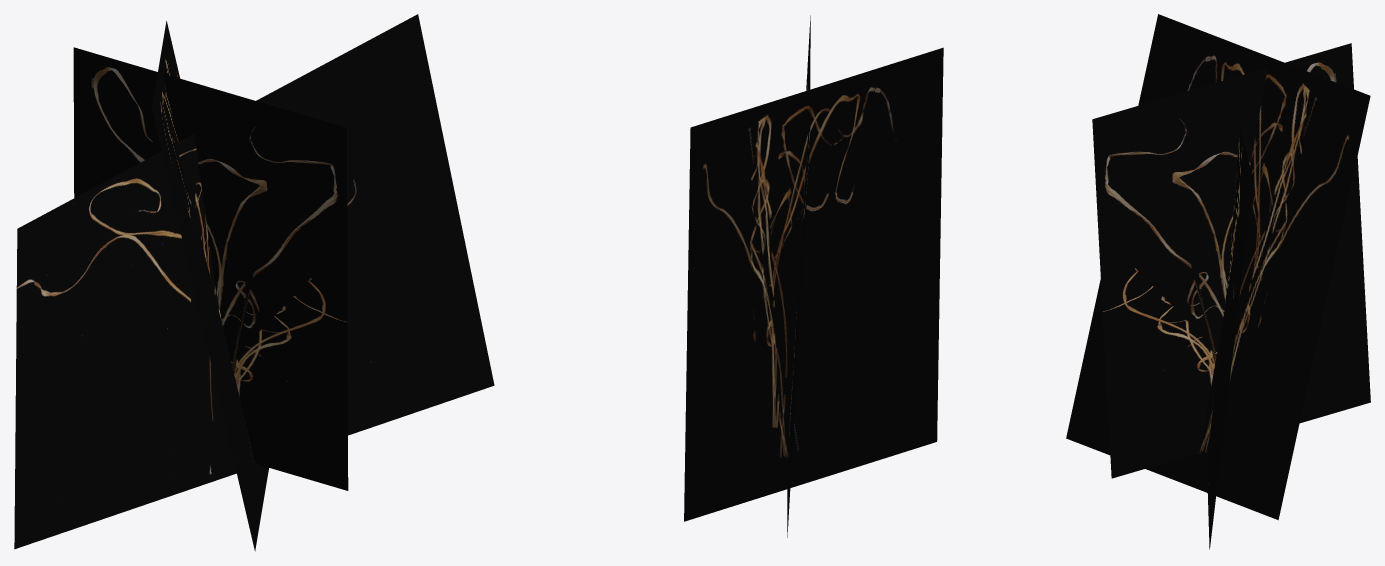
Rendered from dead_grass2.glb.
3 views of the same model, side by side, from view 1: azimuth 30°, elevation 25°; view 2: azimuth 150°, elevation 25°; view 3: azimuth 270°, elevation 25° (orthographic). The views are drawn at different scales.
Visible parts, largest first — view 1: DeadGrass2_DeadGrassATLAS_0; view 2: DeadGrass2_DeadGrassATLAS_0; view 3: DeadGrass2_DeadGrassATLAS_0.
Boxes of the visible parts, x1=… form: DeadGrass2_DeadGrassATLAS_0: x1=14, y1=14, x2=494, y2=551; DeadGrass2_DeadGrassATLAS_0: x1=684, y1=15, x2=943, y2=537; DeadGrass2_DeadGrassATLAS_0: x1=1066, y1=14, x2=1370, y2=549.
Size of the model in its own units: 1.35 by 1.19 by 0.7787.
1 material, 1 textured.
